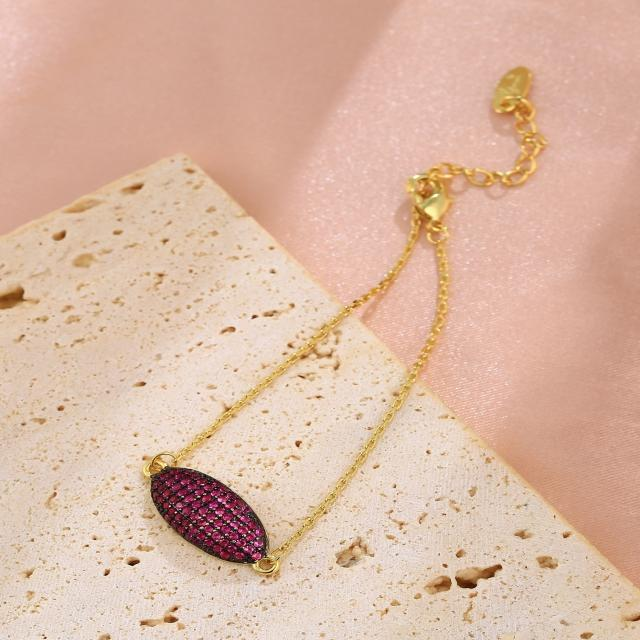bracelet: (65, 14, 640, 640)
